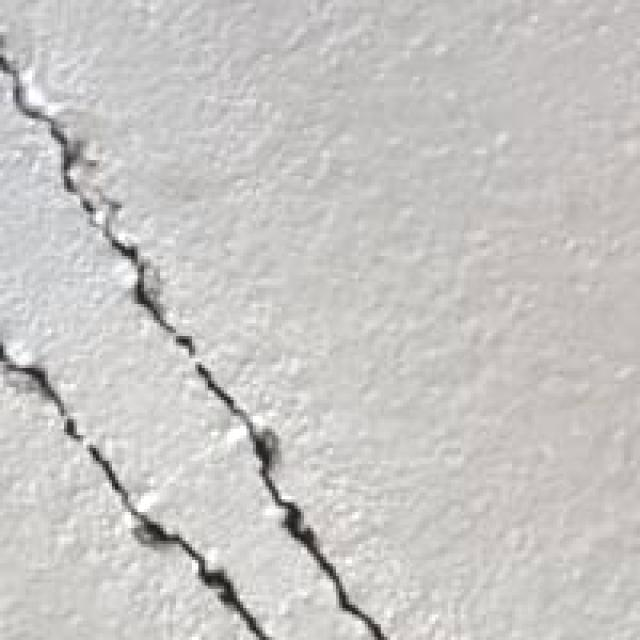crack: (0, 40, 388, 640)
